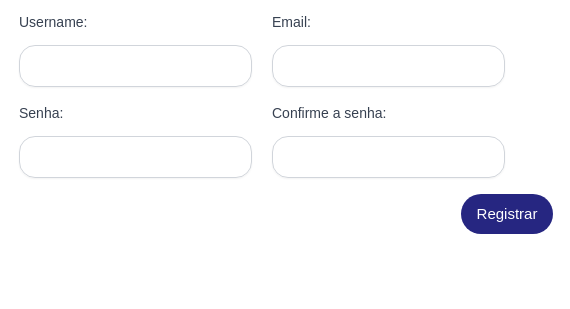
Scenario: FormRegister Component › deve mostrar mensagens de erro ao enviar com campos vazios
The width and height of the screenshot is (570, 309).
Click the button "Registrar". click: click(507, 214)
box: [461,194,554,234]
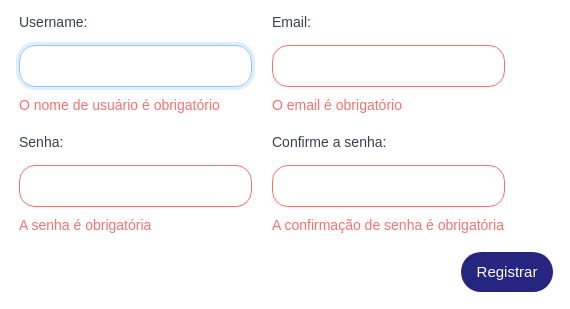
Check: the text "O nome de usuário é obrigatório" is shown, box [19,95,252,116]
Check: the text "O email é obrigatório" is shown, box [272,97,402,113]
Check: the text "A senha é obrigatória" is shown, box [19,217,151,233]
